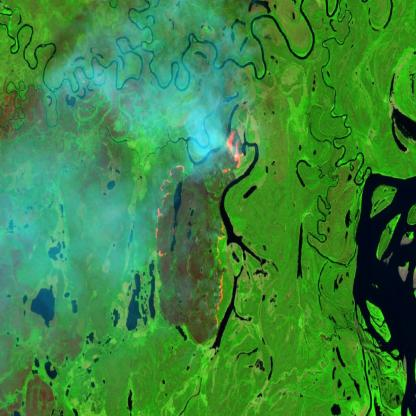fire: (151, 154, 188, 261), (209, 216, 231, 331), (221, 122, 244, 180)
